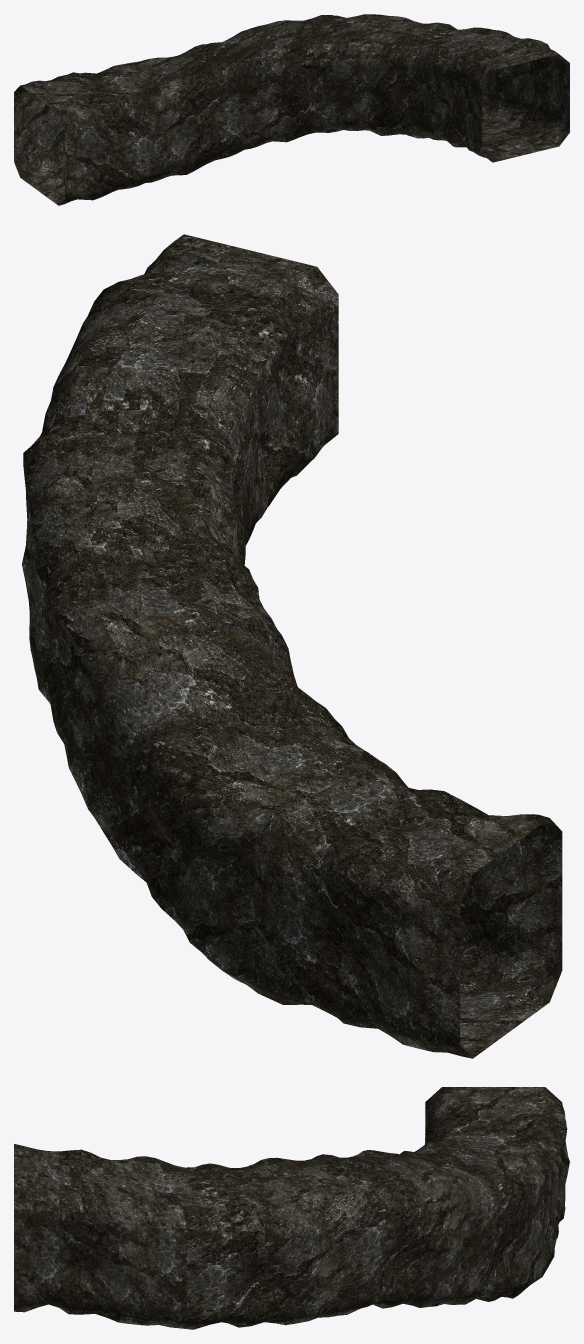
File: Cave_069.fbx
3 renders of one model, top to bottom at view 1: azimuth 30°, elevation 25°; view 2: azimuth 150°, elevation 25°; view 3: azimuth 270°, elevation 25°, orthographic. The views are drawn at different scales.
Parts seen in each view (by area): view 1: Cave.069; view 2: Cave.069; view 3: Cave.069.
Boxes of the visible parts, x1,y1,x2,y2 form: Cave.069: (14, 14, 569, 205); Cave.069: (22, 234, 562, 1058); Cave.069: (14, 1087, 569, 1329).
Bounding box in the file's own units: 1212 × 609 × 1217.
